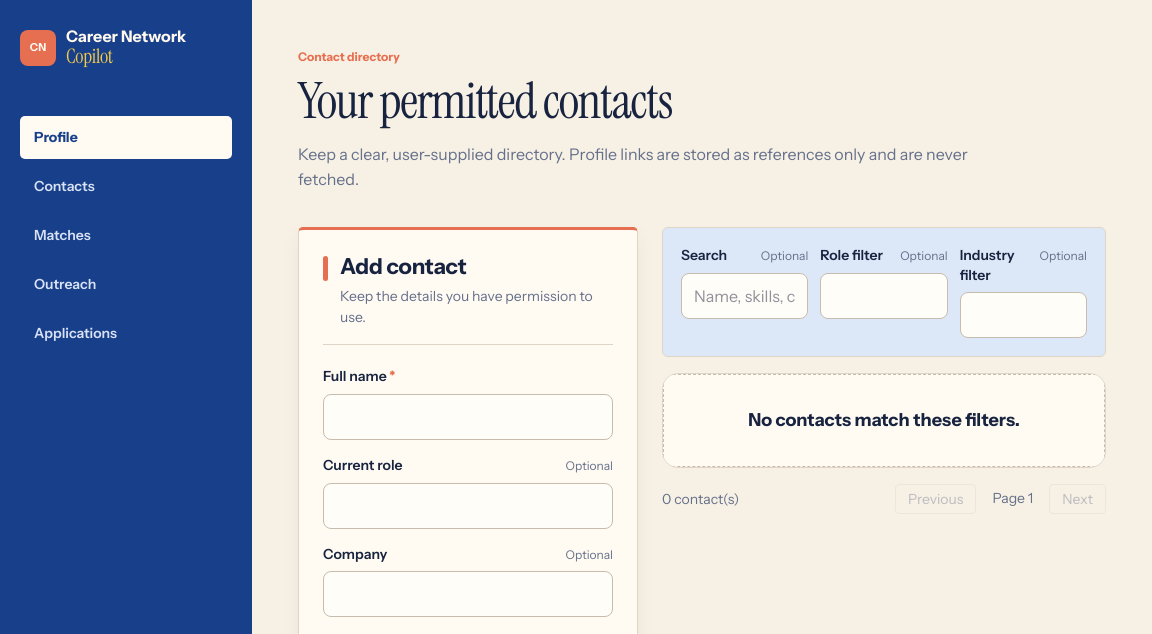
Test: contact directory › renders structured FastAPI validation errors as readable field text
Type "Invalid URL Contact" into the field labelled "Full name" at (468, 417), box [323,394,613,440]
(page scrolled)
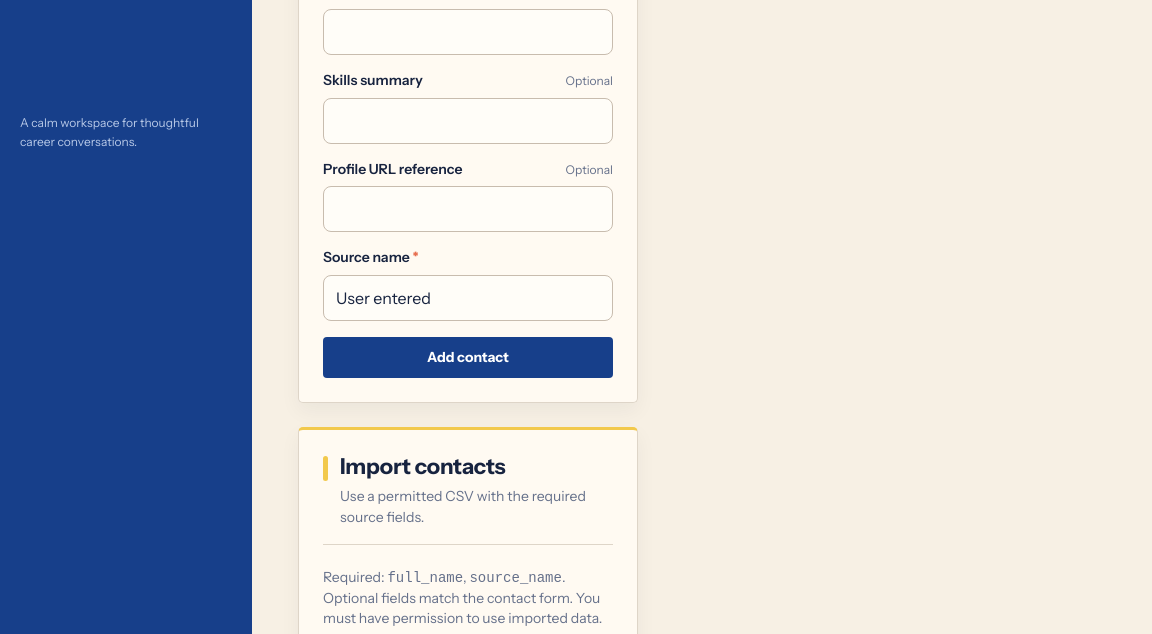
Click the button "Add contact" at (468, 357), box [323,337,613,378]
(page scrolled)
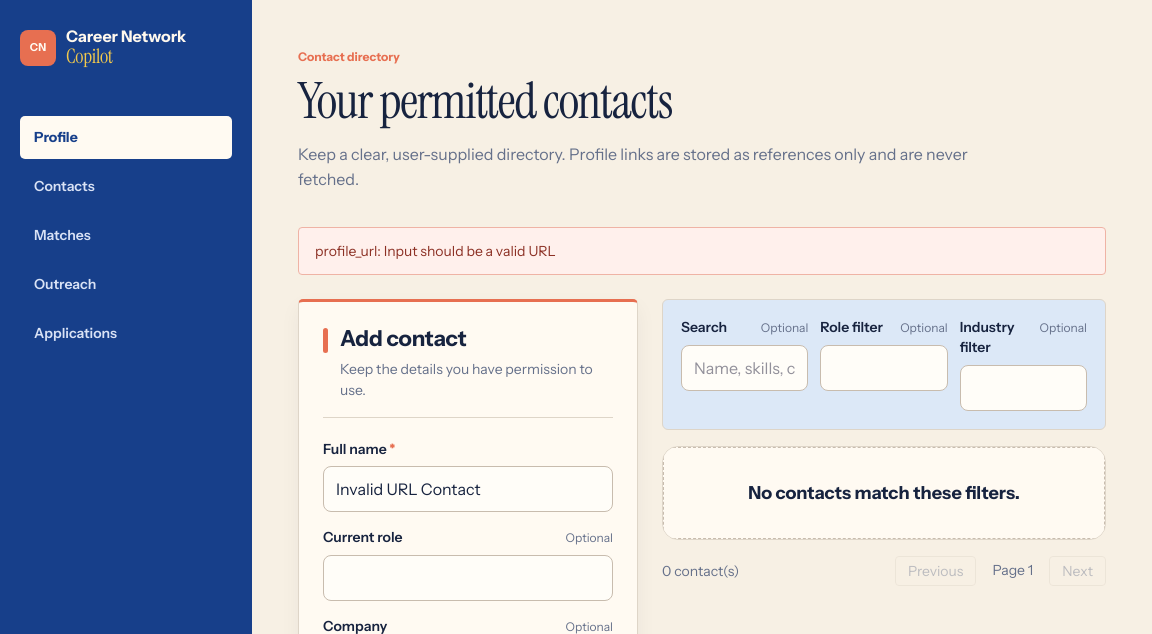
Check: the text "profile_url: Input should be a valid URL" is shown, box [298,227,1106,275]
